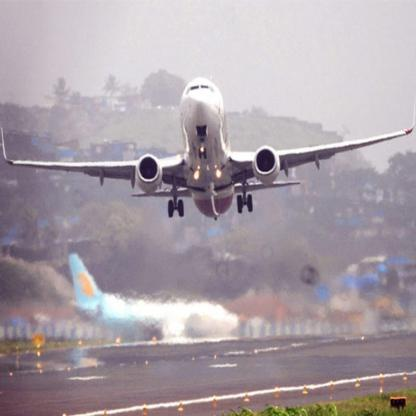CIV_Plane: (0, 76, 415, 231)
